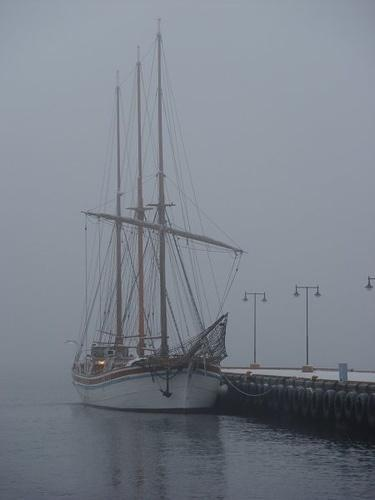boat: (62, 16, 246, 408)
